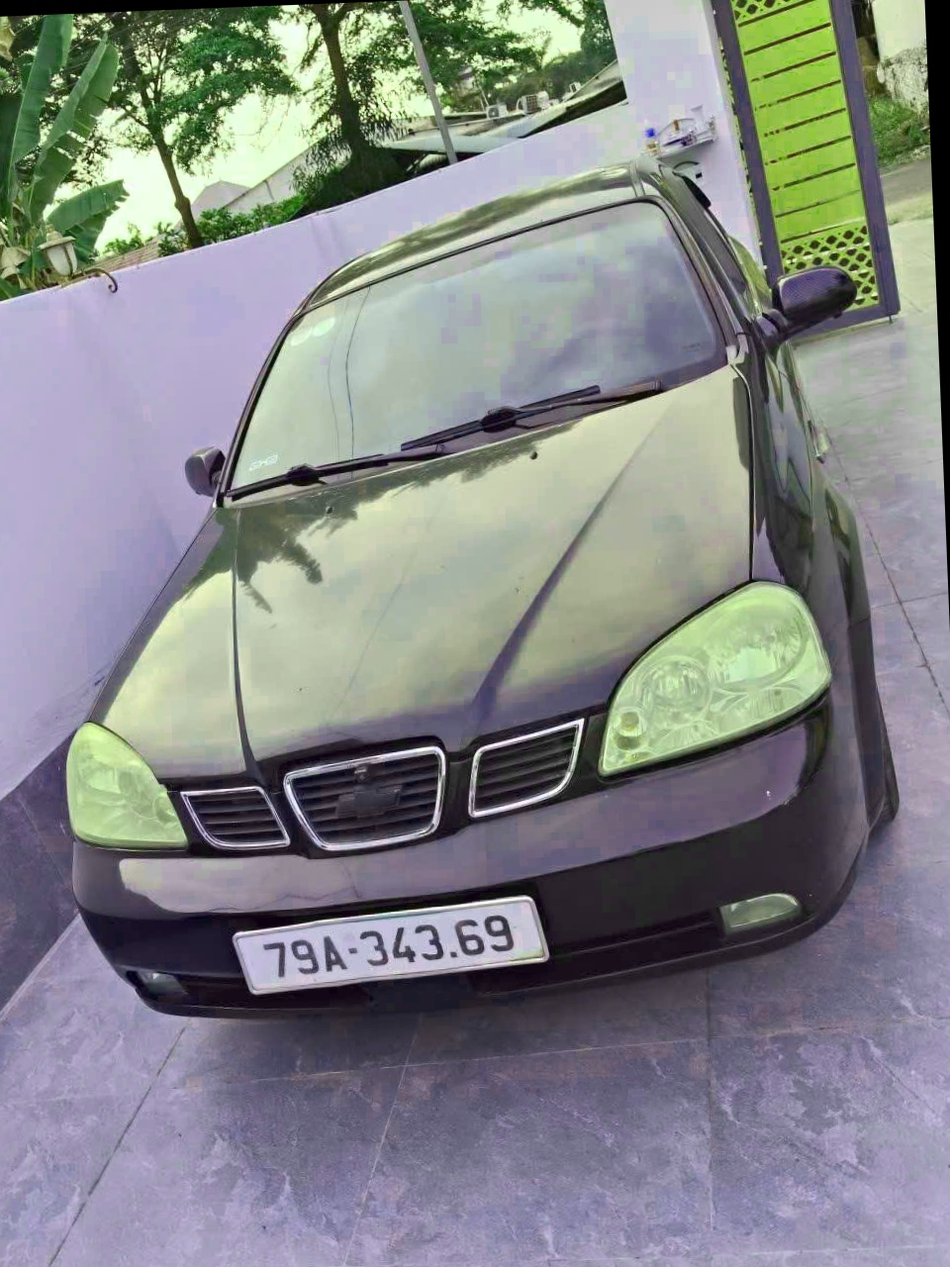Bien-so: (233, 903, 545, 1005)
